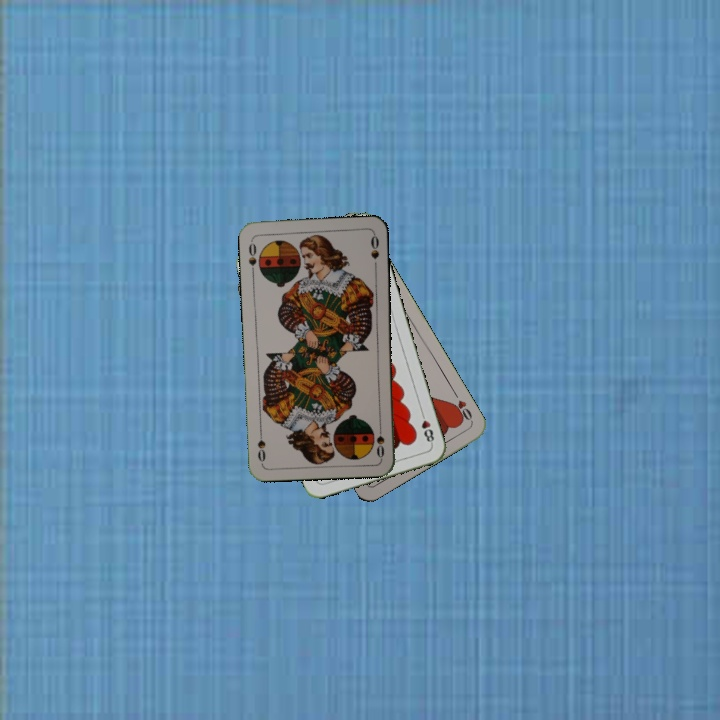H8: (417, 408, 437, 447)
HO: (448, 387, 475, 424)
SO: (372, 419, 387, 460), (244, 236, 259, 277)
